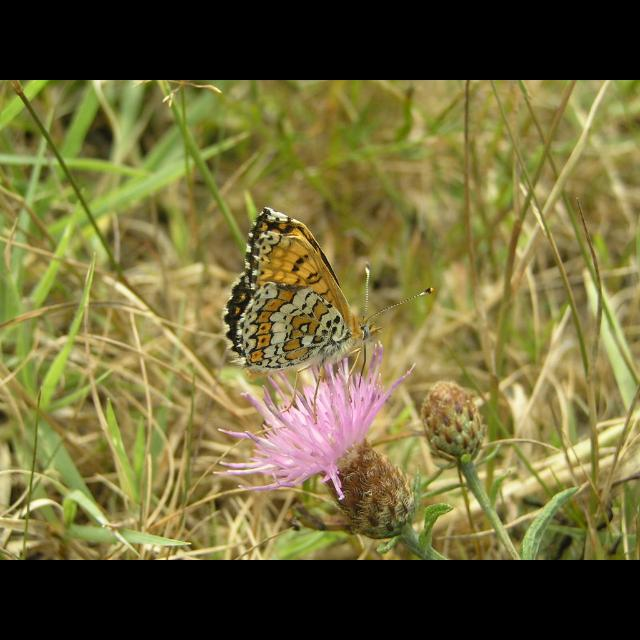Flower: (206, 359, 426, 526)
